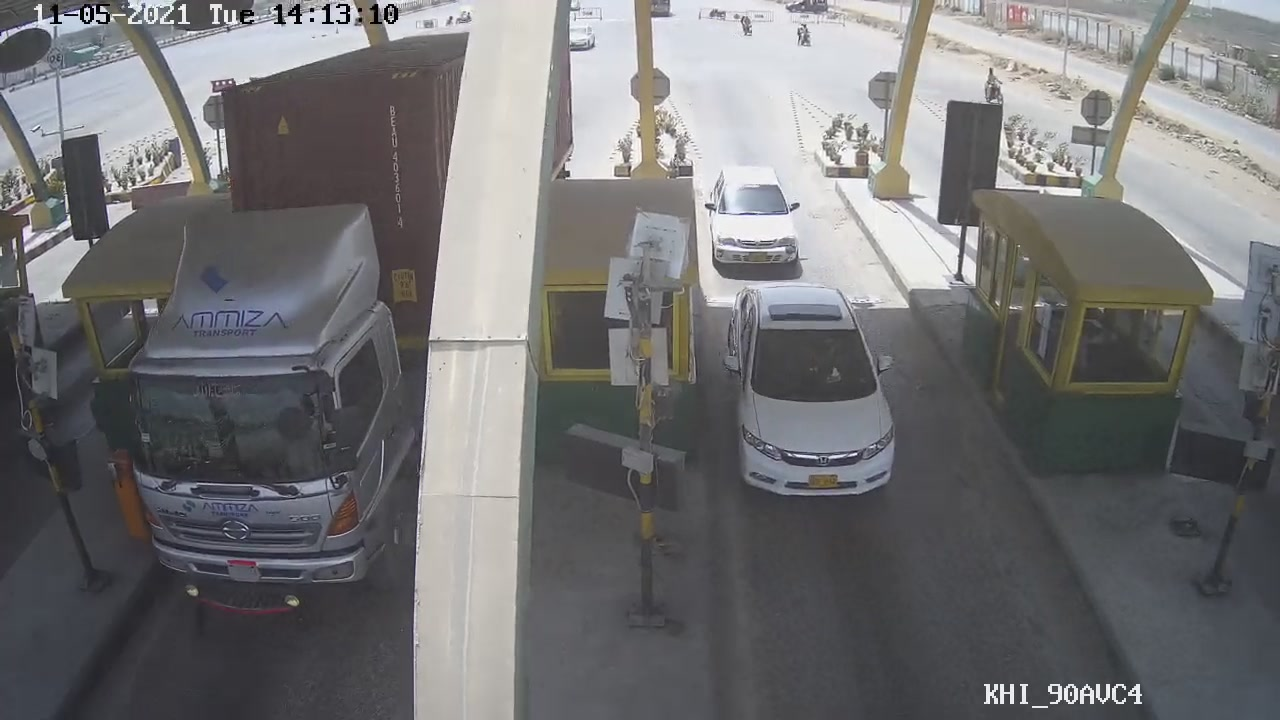F1: (715, 271, 902, 501)
